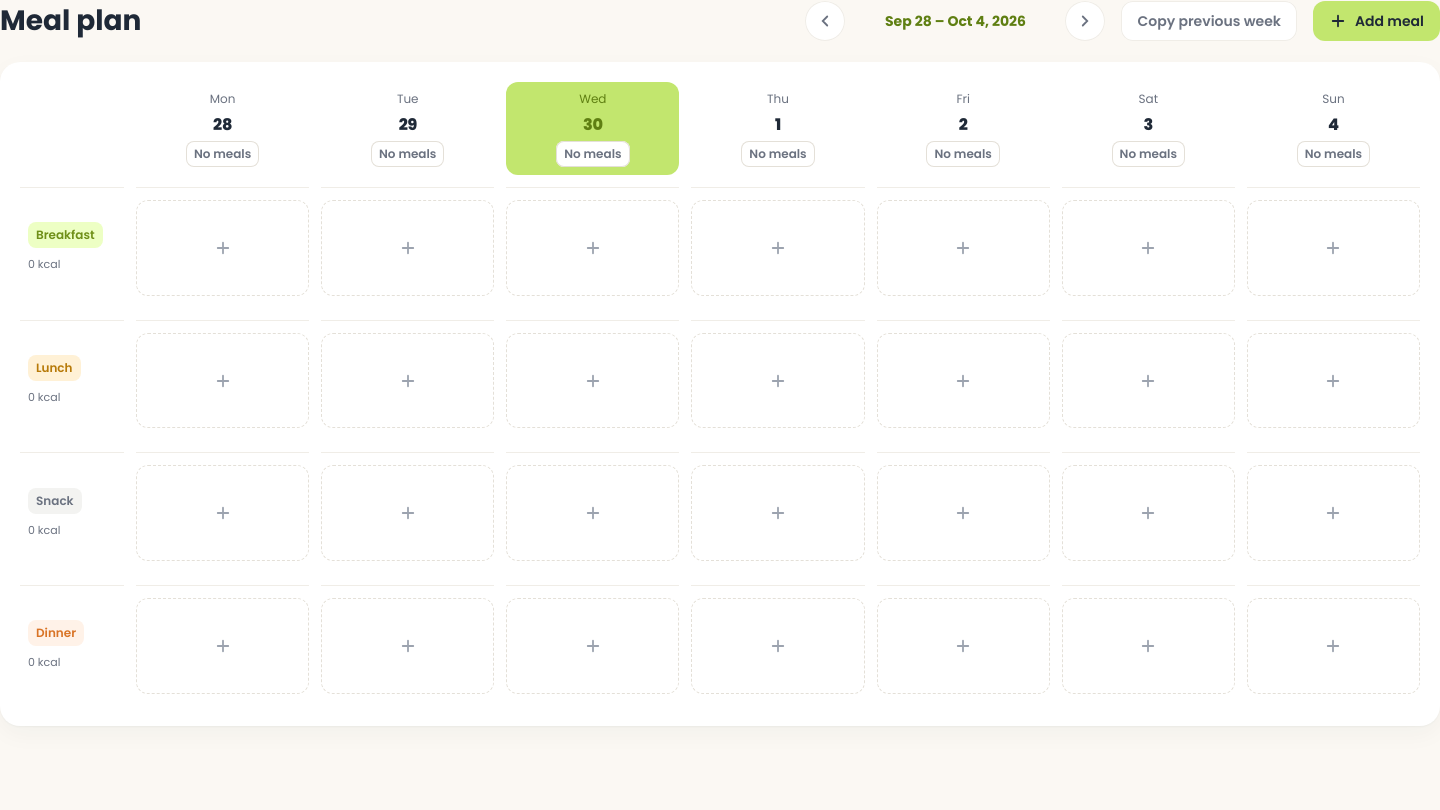
PlanPage › AC-3: adds a recipe to an empty slot with 1 serving
This screenshot has width=1440, height=810.
Click the button named "Add lunch on Tue" at [408, 381], box [321,333,494,428]
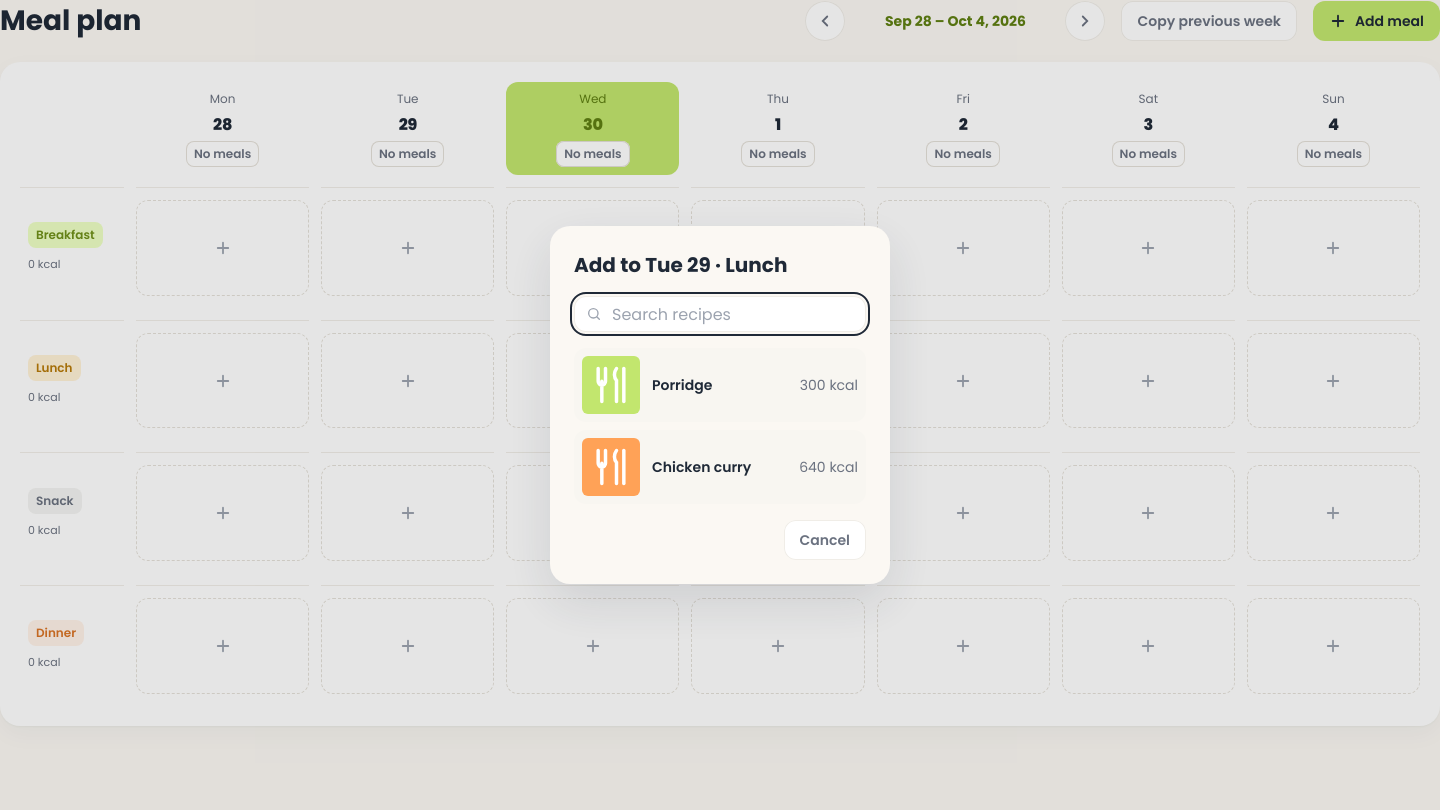
Now the dialog "Add to Tue 29 · Lunch" is shown, box [550,226,890,584]
Click the button "Chicken curry 640 kcal" at [720, 467], box [574,430,866,504]
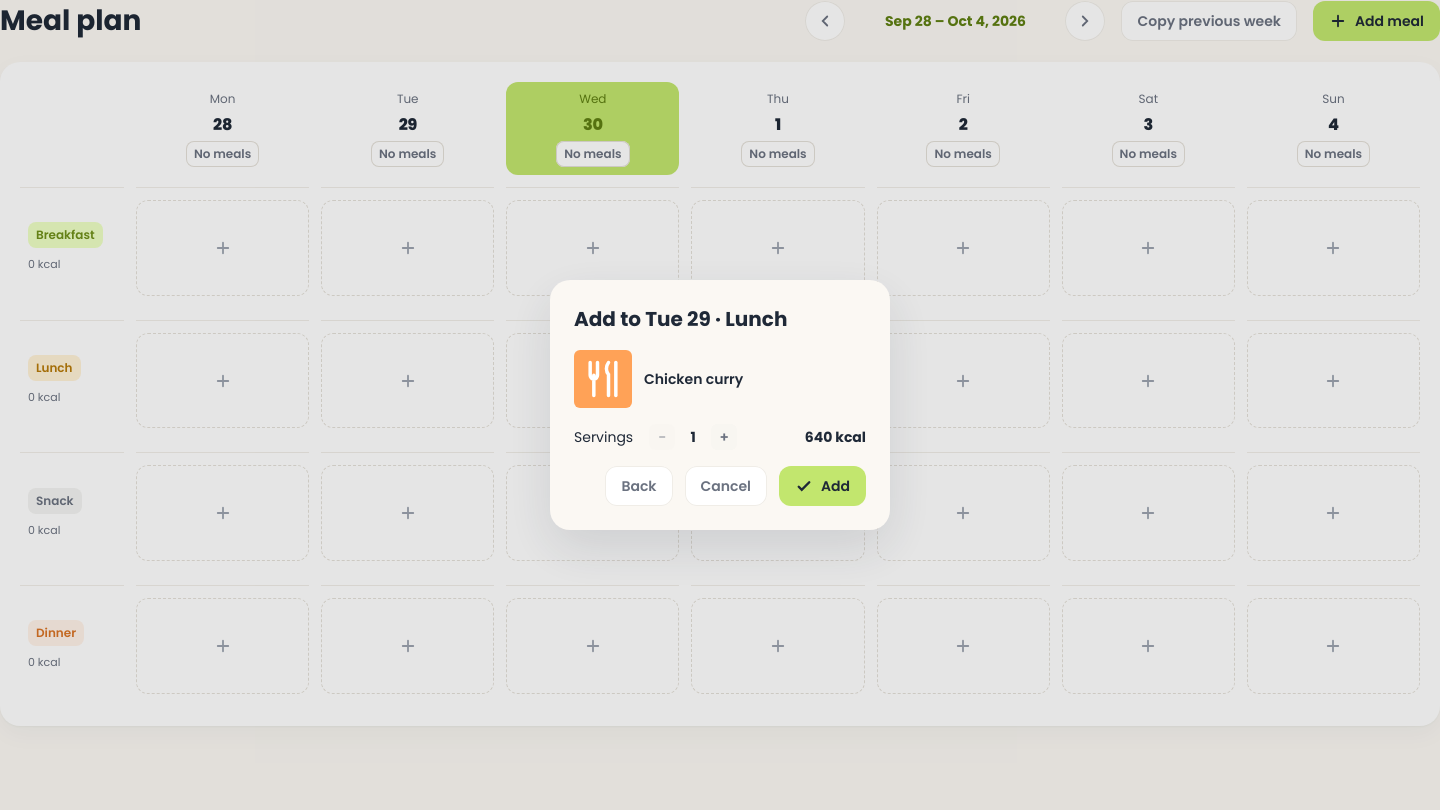
Click the button "Add" at [822, 486], box [779,466,866,506]
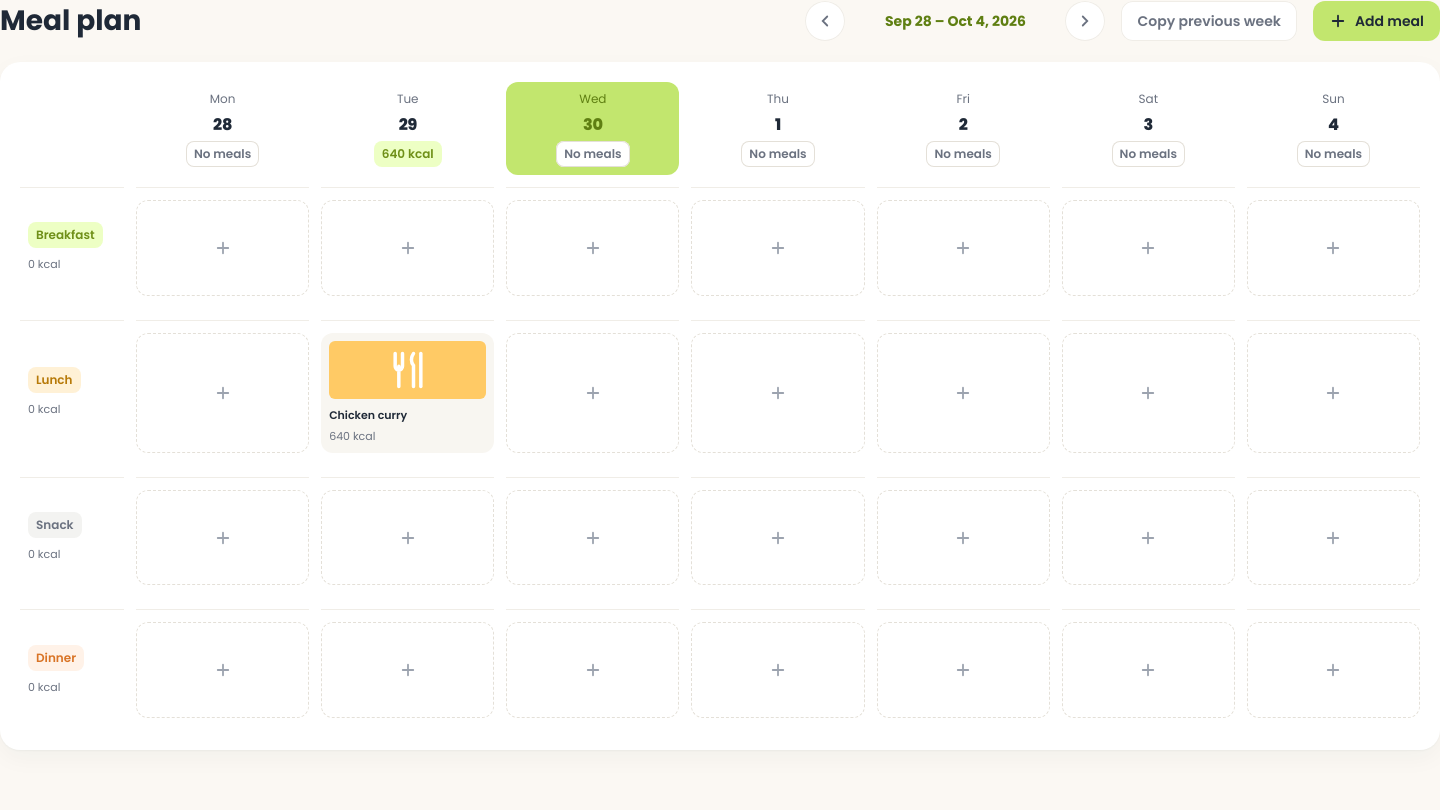
Now the button "Chicken curry 640 kcal" is shown, box [321,333,494,453]
